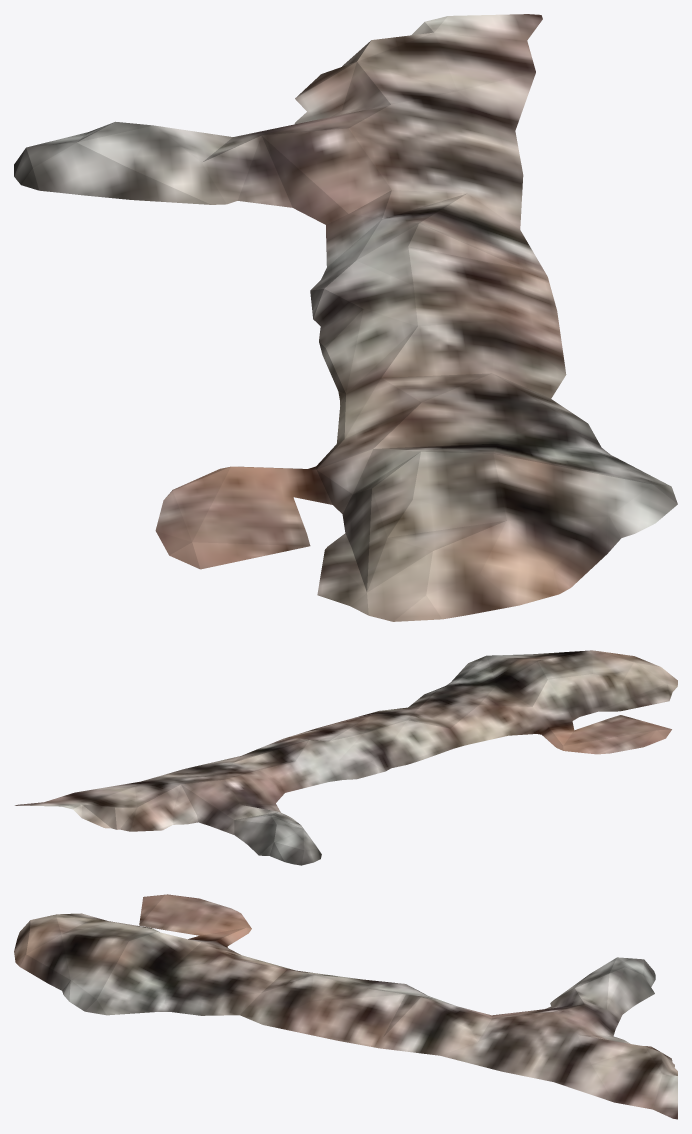
3 views of the same model, one above another, from view 1: azimuth 30°, elevation 25°; view 2: azimuth 150°, elevation 25°; view 3: azimuth 270°, elevation 25° (orthographic). The views are drawn at different scales.
Bounding box in the file's own units: 1.4 × 0.0912 × 1.75.
Materials: 1 (1 with a texture image).
